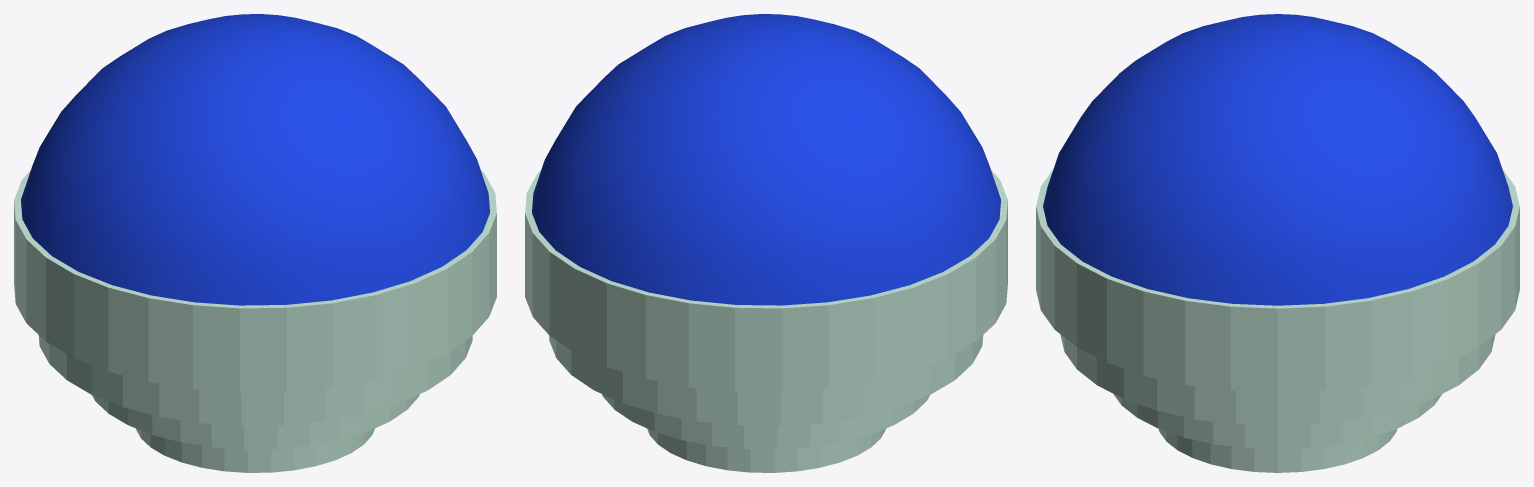
The model's file is player.fbx.
The picture shows the model from 3 angles, left to right: view 1: azimuth 30°, elevation 25°; view 2: azimuth 150°, elevation 25°; view 3: azimuth 270°, elevation 25°; orthographic projection.
Visible parts, largest first — view 1: Sphere; view 2: Sphere; view 3: Sphere.
Part boxes in pixels (x1,y1,x2,y2): Sphere: [14, 14, 496, 472]; Sphere: [525, 14, 1007, 472]; Sphere: [1036, 14, 1519, 472].
Bounding box in the file's own units: 200 × 176 × 200.
